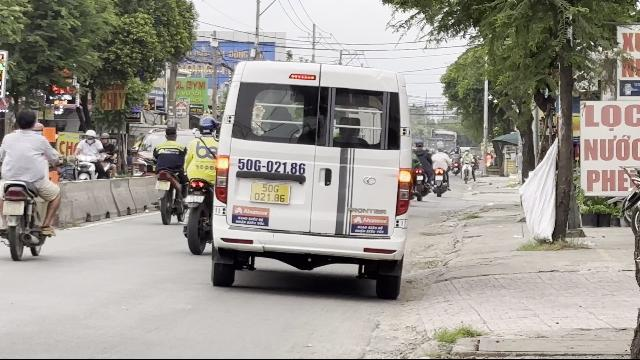helmet: (197, 115, 219, 136)
licenseplate: (3, 201, 24, 214), (184, 194, 204, 202)
motorcyclist: (1, 107, 64, 258), (181, 114, 219, 253)
nohelmet: (14, 108, 36, 130)
